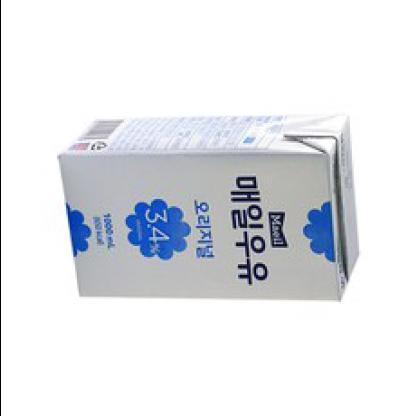tetra: (38, 84, 384, 330)
